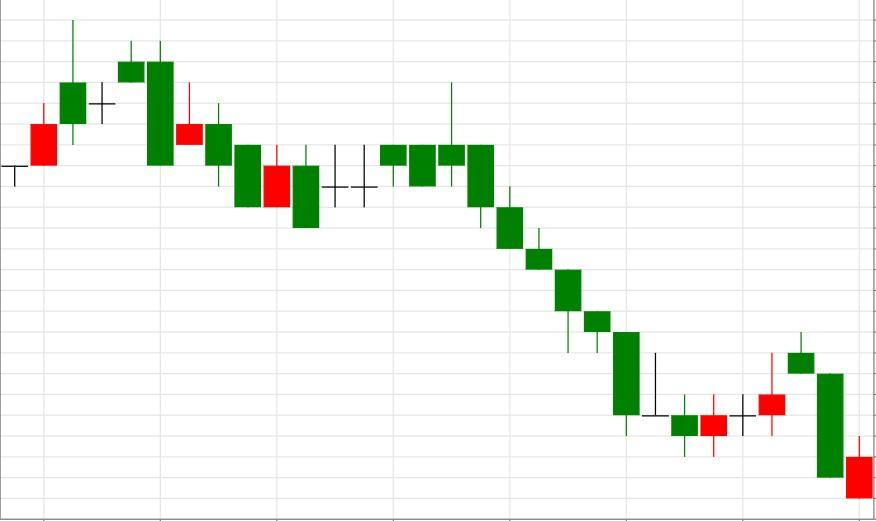three_black_crows_fall: (291, 81, 553, 270)
